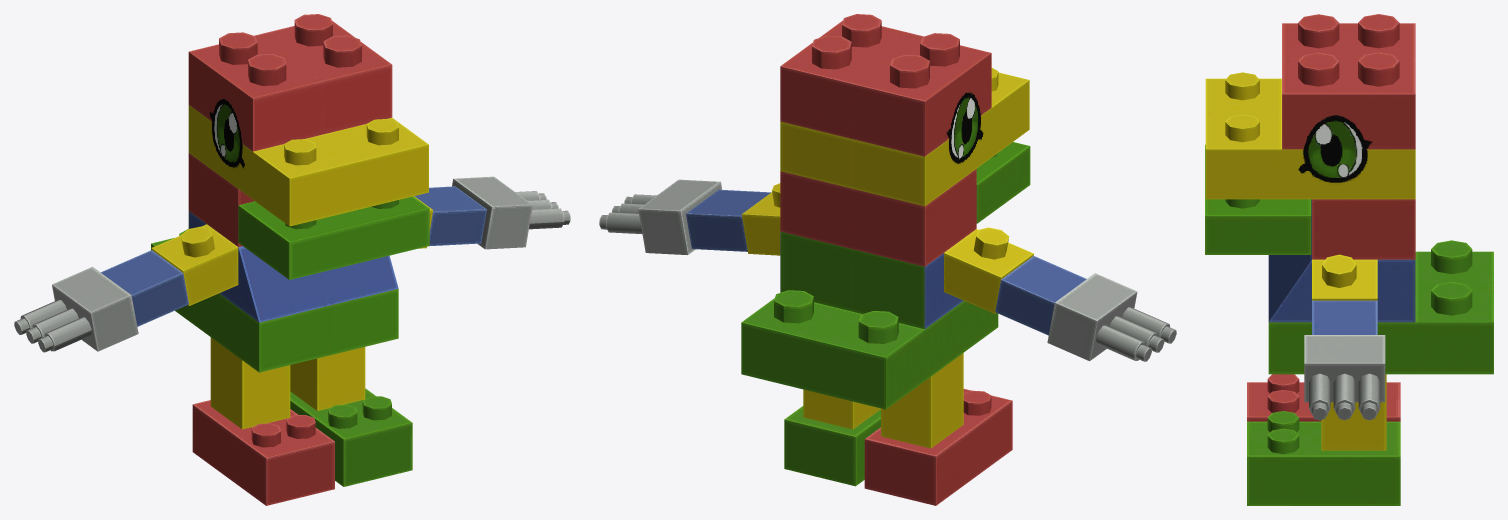
File: ToyAgumon.glb
The picture shows the model from 3 angles, left to right: view 1: azimuth 30°, elevation 25°; view 2: azimuth 150°, elevation 25°; view 3: azimuth 270°, elevation 25°; orthographic projection. The views are drawn at different scales.
Parts seen in each view (by area): view 1: nifid_4-matrix_Toyagumon-lib; view 2: nifid_4-matrix_Toyagumon-lib; view 3: nifid_4-matrix_Toyagumon-lib.
Boxes of the visible parts, bbox=[...] form: nifid_4-matrix_Toyagumon-lib: bbox=[14, 14, 570, 505]; nifid_4-matrix_Toyagumon-lib: bbox=[599, 14, 1176, 505]; nifid_4-matrix_Toyagumon-lib: bbox=[1205, 14, 1493, 505].
Size of the model in its own units: 1.85 by 1.37 by 0.8415.
1 material, 1 textured.
